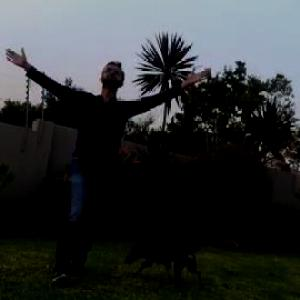takeoff: (9, 62, 189, 268)
